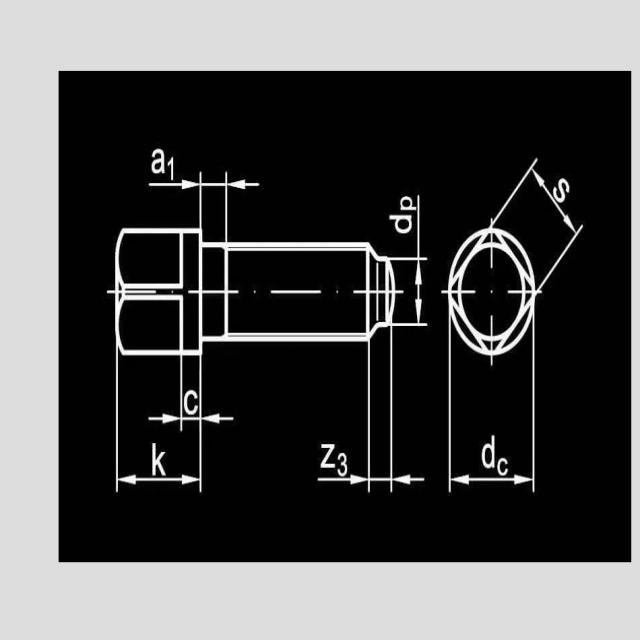marking_line: (531, 171, 577, 235), (119, 473, 200, 487), (451, 473, 532, 486), (413, 261, 425, 324), (148, 178, 199, 192), (201, 410, 235, 425), (319, 475, 367, 485), (228, 178, 261, 191), (148, 413, 179, 426), (393, 474, 427, 485)
